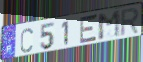1: (61, 20, 70, 46)
5: (39, 21, 56, 51)
C: (19, 27, 35, 54)
E: (79, 13, 99, 46)
M: (97, 9, 122, 42)
R: (119, 6, 141, 39)
